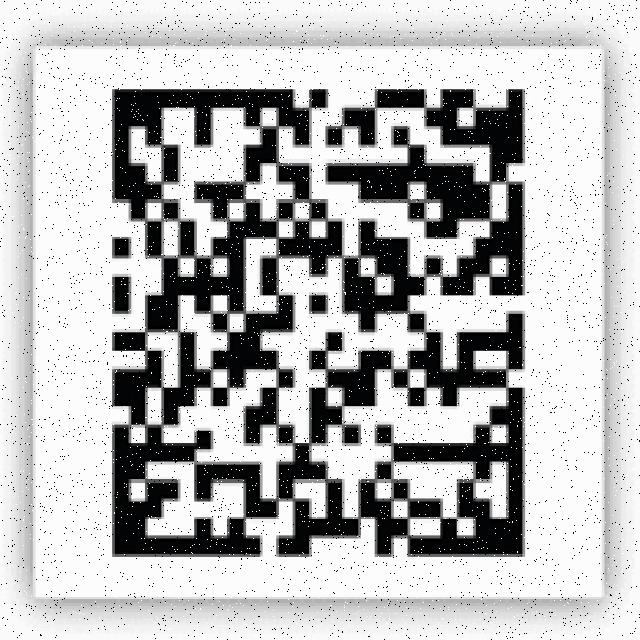datamatrix: (101, 74, 536, 572)
